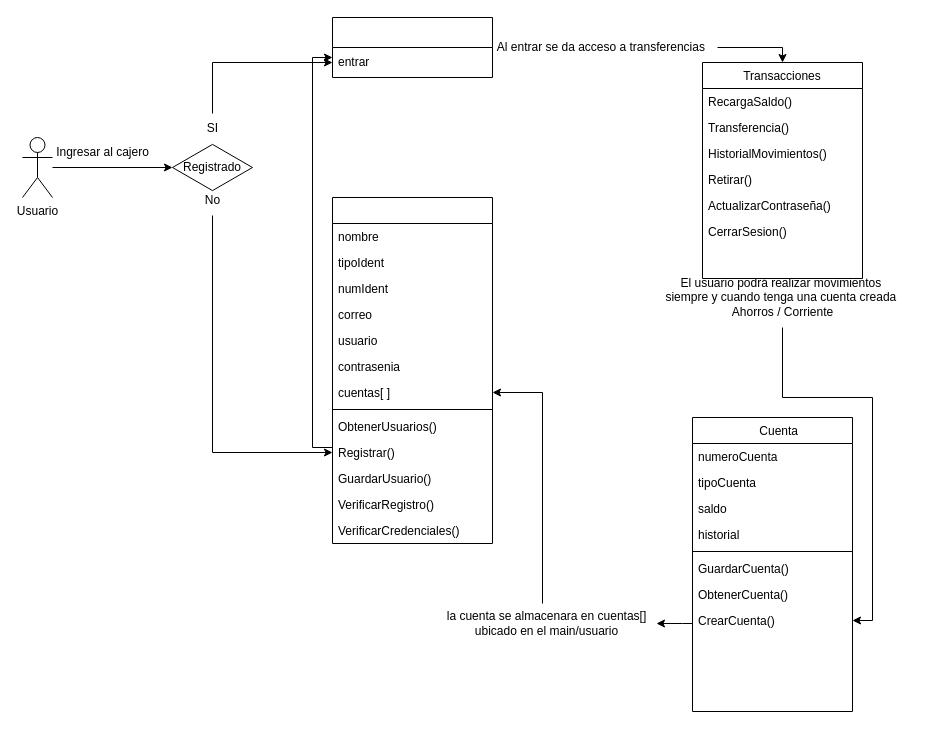
This 930x729 diagram has some shape labels left out. Each missing label, with the box of its shape:
inicioSesion: (332, 16, 492, 78)
main/ Usuario: (332, 196, 492, 544)
